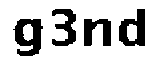3: (48, 5, 77, 48)
d: (117, 3, 151, 53)
g: (9, 14, 44, 58)
n: (81, 14, 114, 50)
